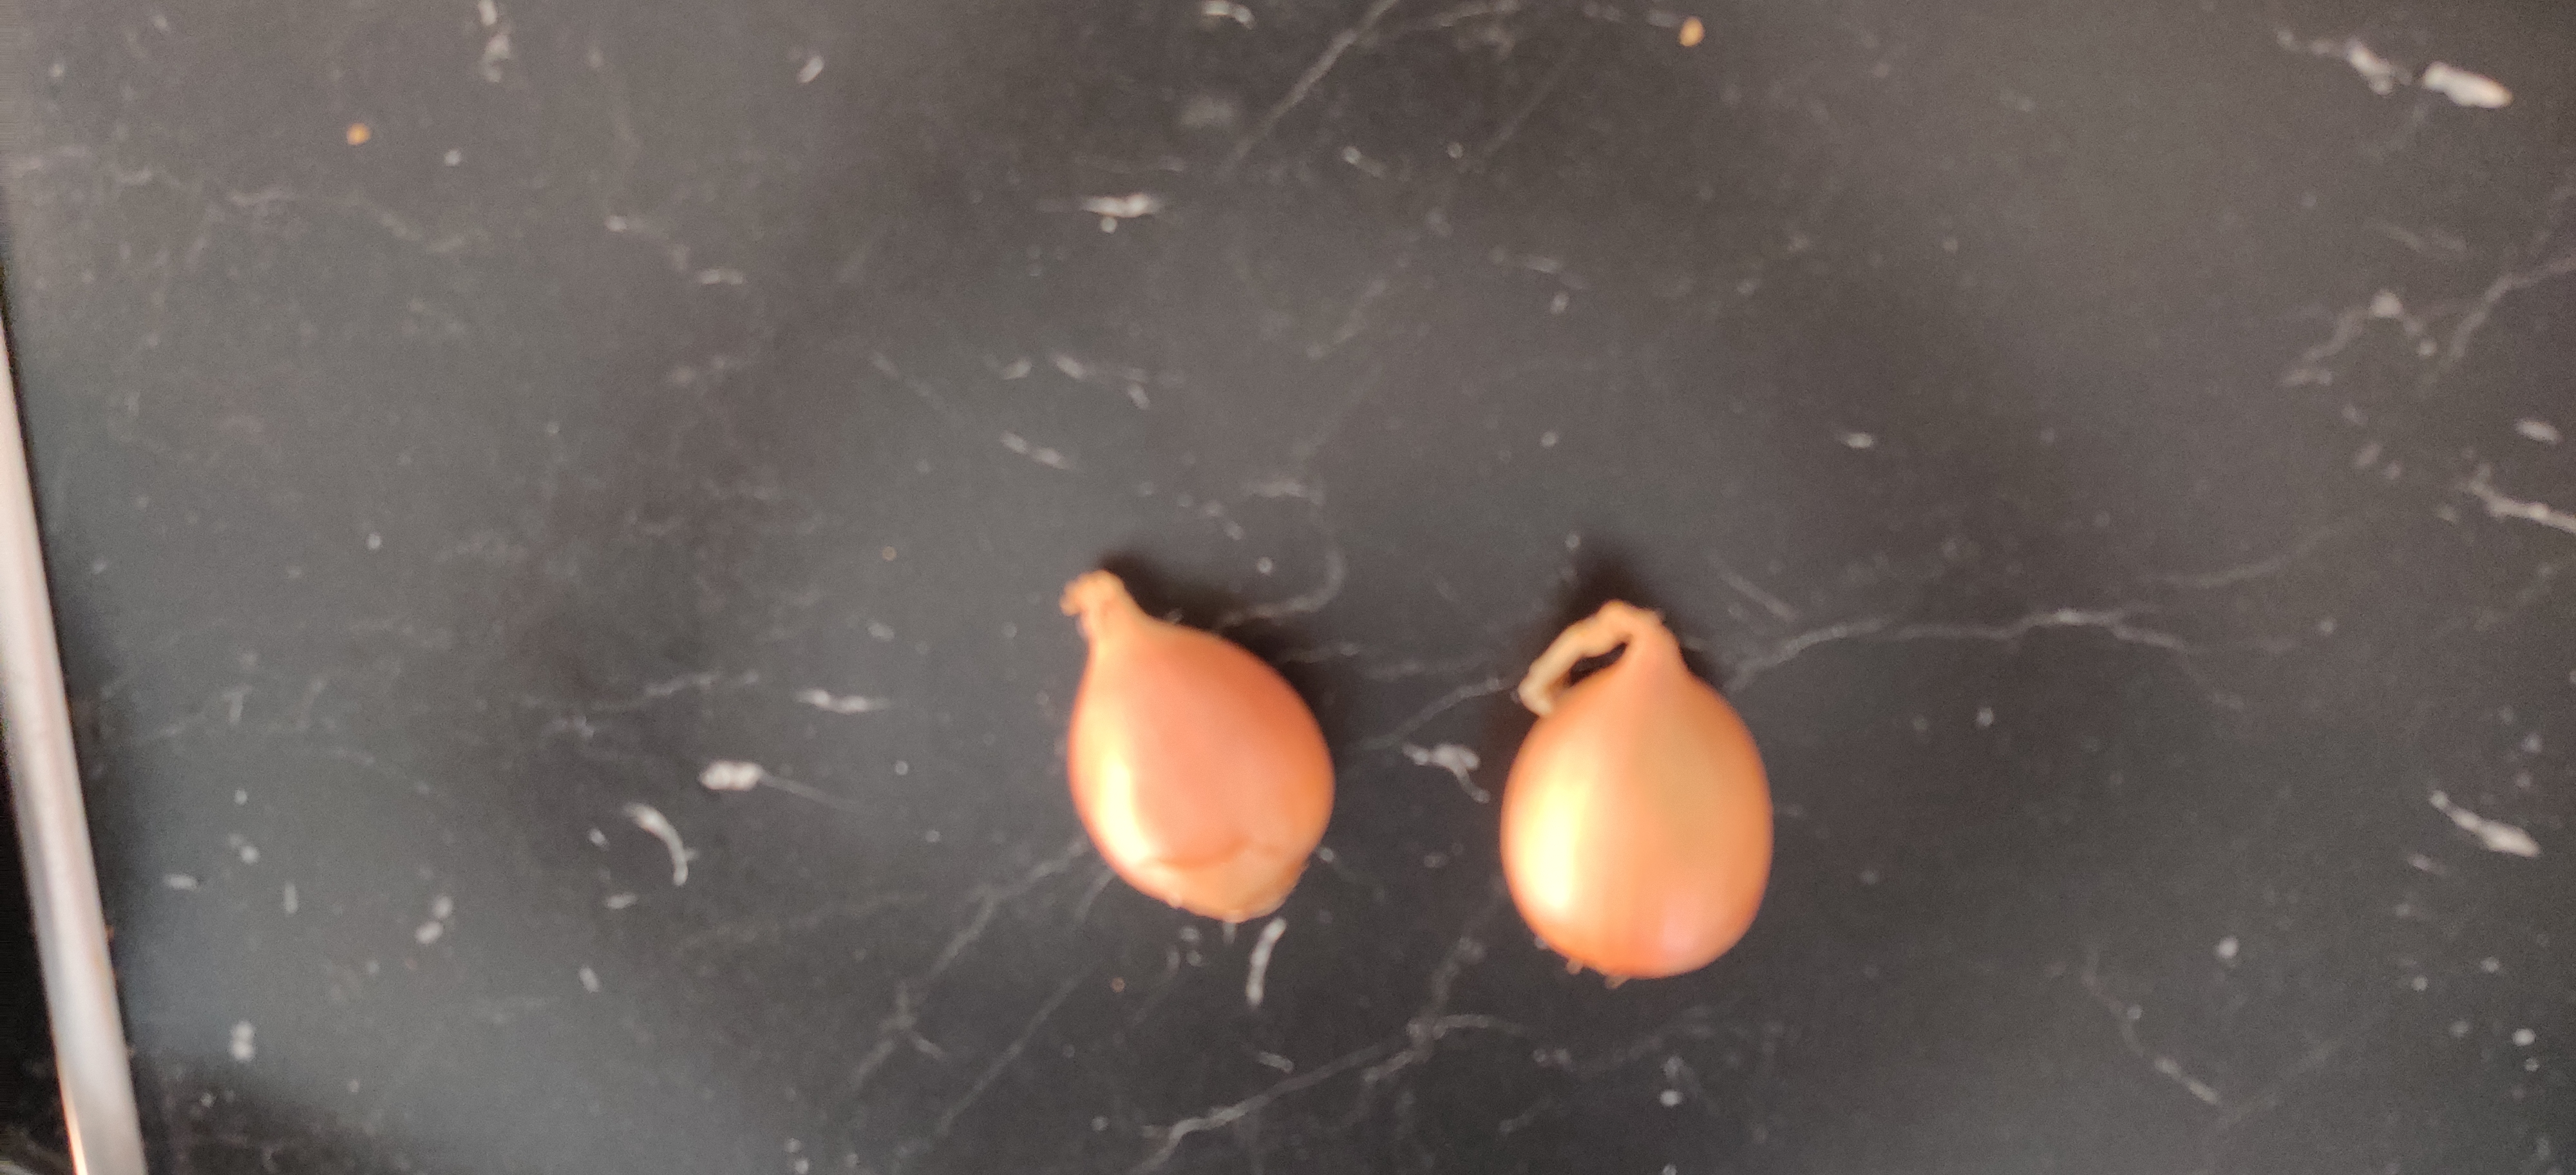Zwiebel: (1502, 597, 1771, 978), (1060, 567, 1336, 924)
